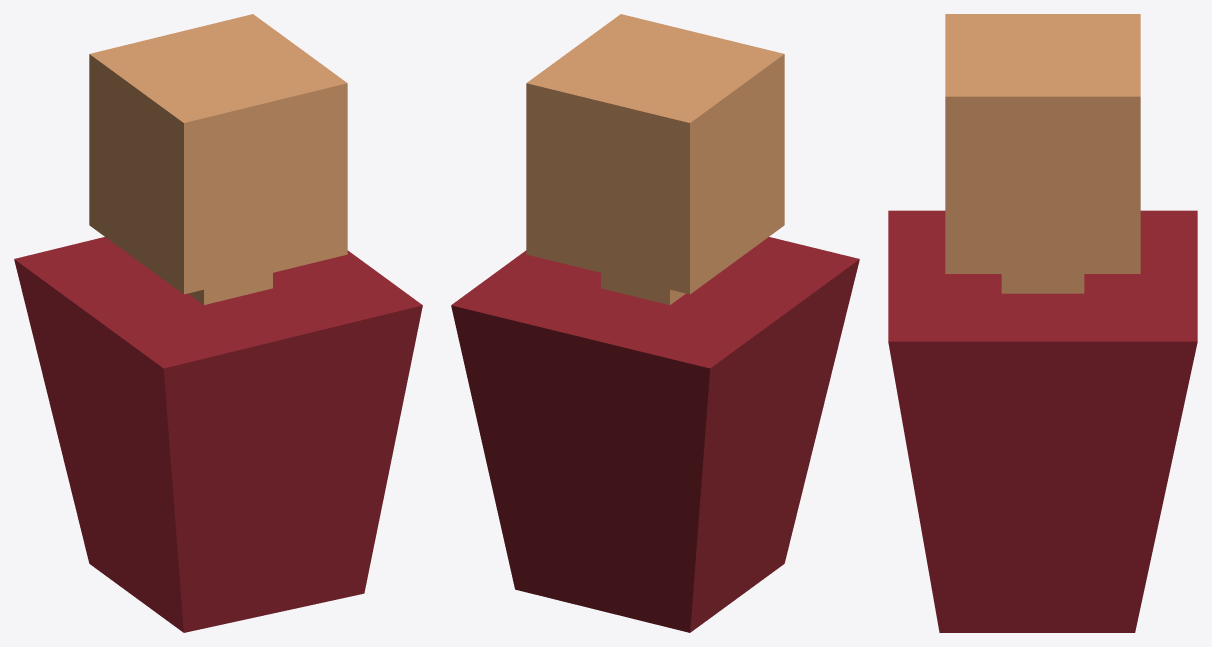
File: character2.fbx
3 views of the same model, side by side, from view 1: azimuth 30°, elevation 25°; view 2: azimuth 150°, elevation 25°; view 3: azimuth 270°, elevation 25° (orthographic). The views are drawn at different scales.
Visible parts, largest first — view 1: Cube, Cube.002, Cube.001; view 2: Cube, Cube.002, Cube.001; view 3: Cube, Cube.002, Cube.001.
Boxes of the visible parts, <box> form: Cube: <box>14,237,422,632</box>; Cube.002: <box>89,14,347,294</box>; Cube.001: <box>188,273,272,304</box>; Cube: <box>451,237,859,632</box>; Cube.002: <box>526,14,784,294</box>; Cube.001: <box>601,273,685,304</box>; Cube: <box>888,210,1197,632</box>; Cube.002: <box>945,14,1140,273</box>; Cube.001: <box>1001,274,1084,293</box>.
Size of the model in its own units: 3.17 by 5.97 by 3.17.
